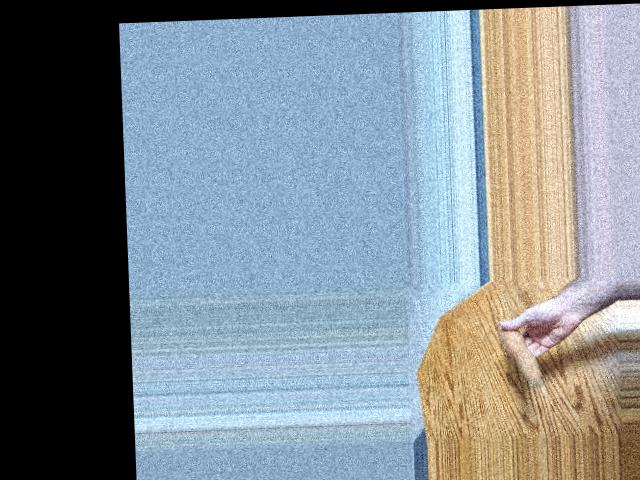sweet_potato: (496, 315, 549, 391)
